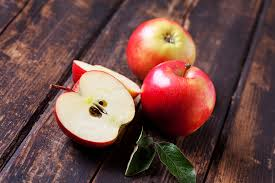apple: (141, 62, 218, 137), (127, 15, 201, 69)
damaged_apple: (46, 74, 137, 149)
